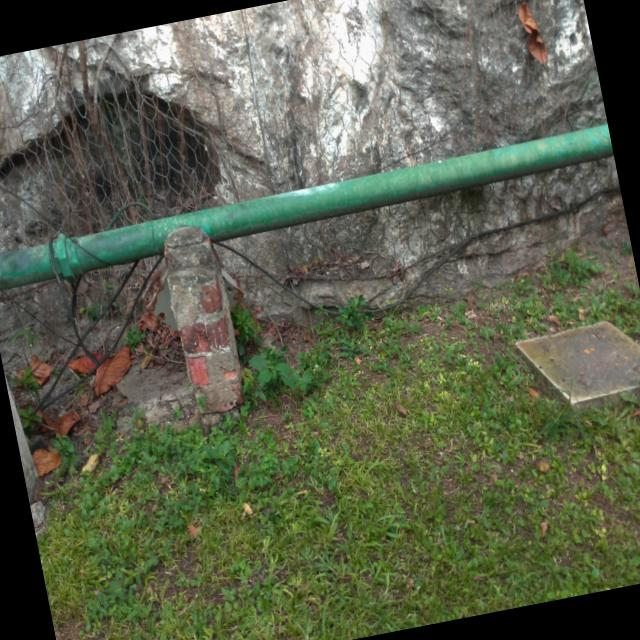gas: (0, 121, 618, 298)
